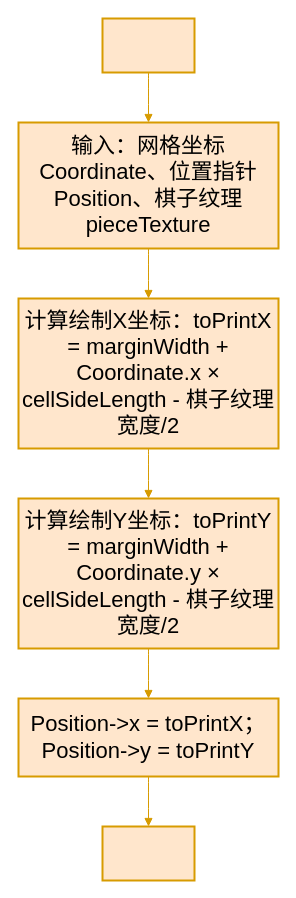
The diagram is 296 pixels wide and 898 high, and some of its shapes have lost their labels. The centre of each missing label's shape, as x and y in pixels:
开始: point 148,45
结束: point 148,853
